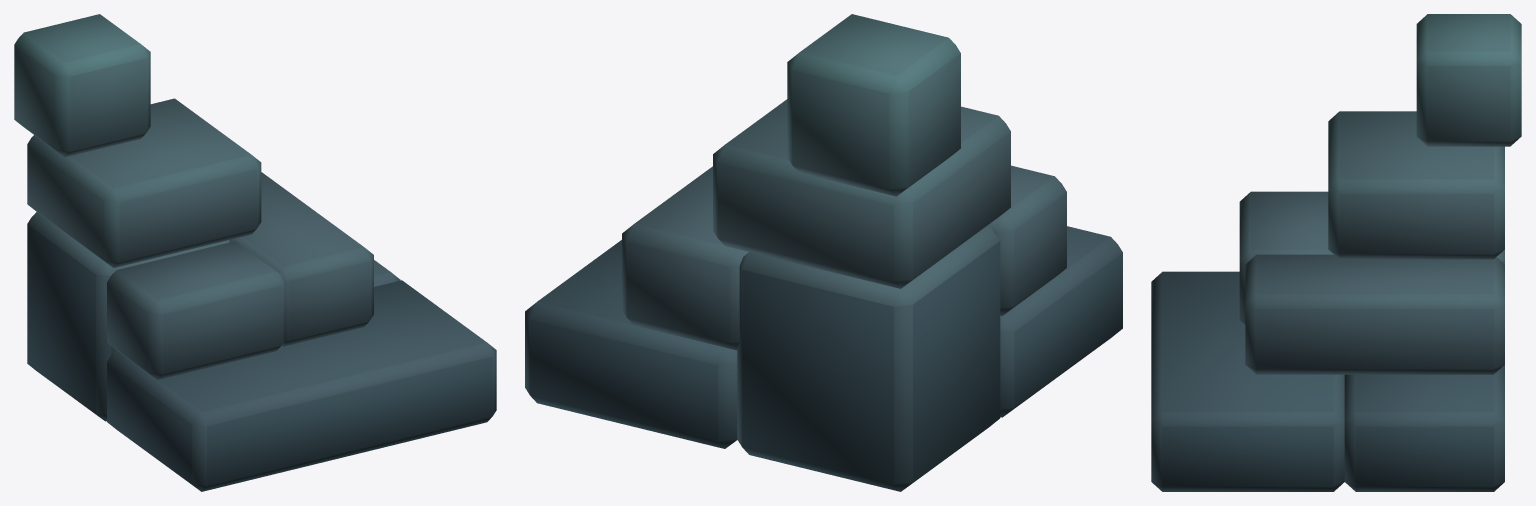
The model's file is stair_corner_convex.fbx.
The picture shows the model from 3 angles, left to right: view 1: azimuth 30°, elevation 25°; view 2: azimuth 150°, elevation 25°; view 3: azimuth 270°, elevation 25°; orthographic projection. The views are drawn at different scales.
Visible parts, largest first — view 1: stair_corner_convex; view 2: stair_corner_convex; view 3: stair_corner_convex.
Part boxes in pixels (x1,y1,x2,y2): stair_corner_convex: [14, 14, 496, 491]; stair_corner_convex: [525, 14, 1122, 491]; stair_corner_convex: [1151, 14, 1521, 491].
Bounding box in the file's own units: 102 × 105 × 105.
